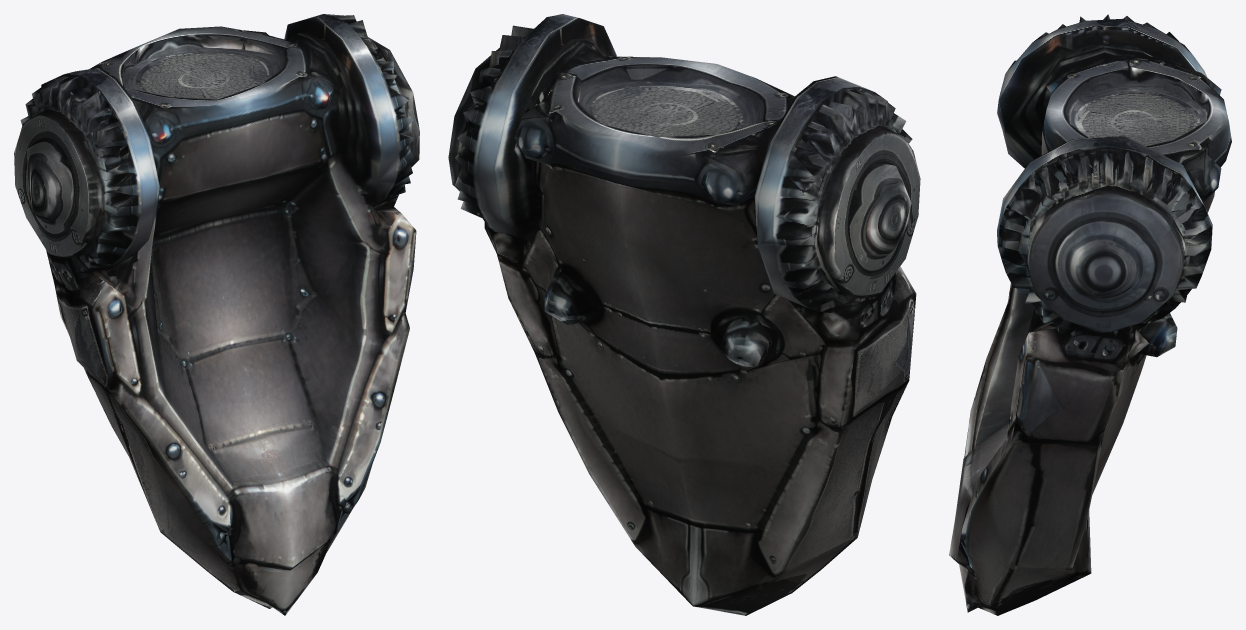
File: TurtleHead2.fbx
3 renders of one model, left to right at view 1: azimuth 30°, elevation 25°; view 2: azimuth 150°, elevation 25°; view 3: azimuth 270°, elevation 25°, orthographic. The views are drawn at different scales.
Parts seen in each view (by area): view 1: texture_mapping; view 2: texture_mapping; view 3: texture_mapping.
Part boxes in pixels (x1,y1,x2,y2): texture_mapping: [14, 14, 419, 615]; texture_mapping: [448, 14, 920, 615]; texture_mapping: [949, 14, 1231, 615].
Size of the model in its own units: 0.7081 by 0.4617 by 0.9655.
1 material, 1 textured.
